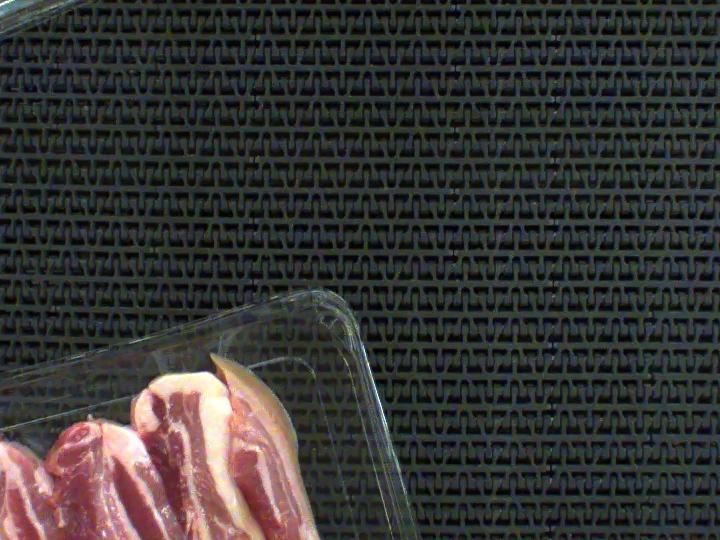packaging-error: (120, 302, 248, 379)
